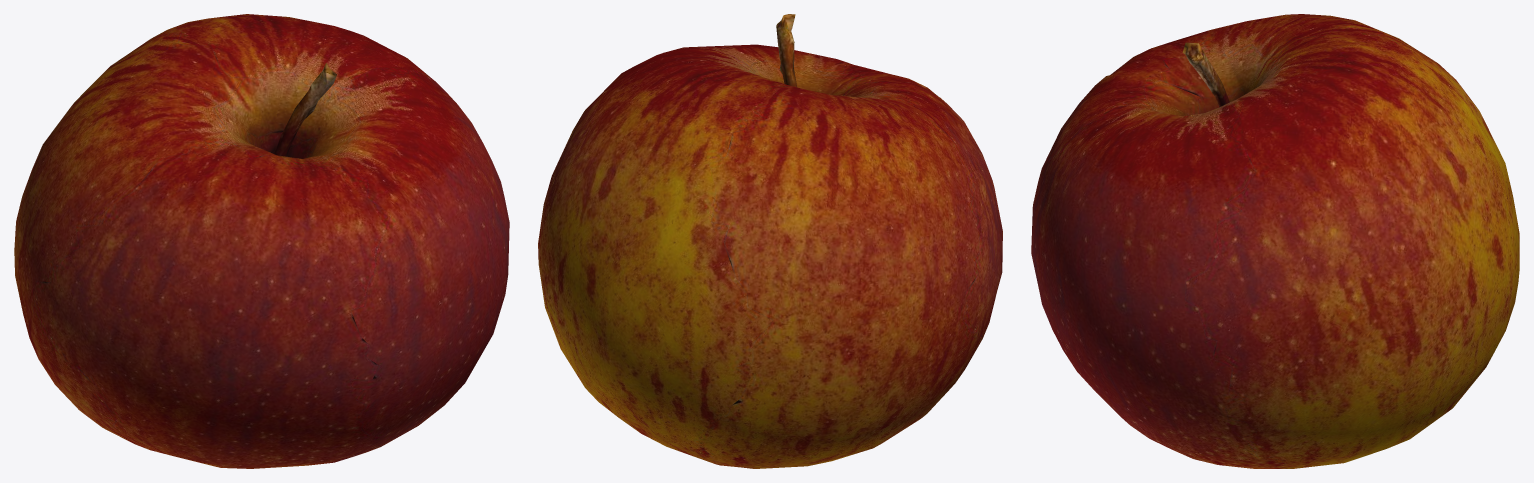
File: prod_apple.glb
The picture shows the model from 3 angles, left to right: view 1: azimuth 30°, elevation 25°; view 2: azimuth 150°, elevation 25°; view 3: azimuth 270°, elevation 25°; orthographic projection. The views are drawn at different scales.
Parts seen in each view (by area): view 1: food_apple_01; view 2: food_apple_01; view 3: food_apple_01.
Part boxes in pixels (<box>): food_apple_01: <box>14,14,509,468</box>; food_apple_01: <box>538,14,1002,468</box>; food_apple_01: <box>1031,14,1519,468</box>.
Bounding box in the file's own units: 0.0972 × 0.0854 × 0.0958.
Materials: 1 (1 with a texture image).
